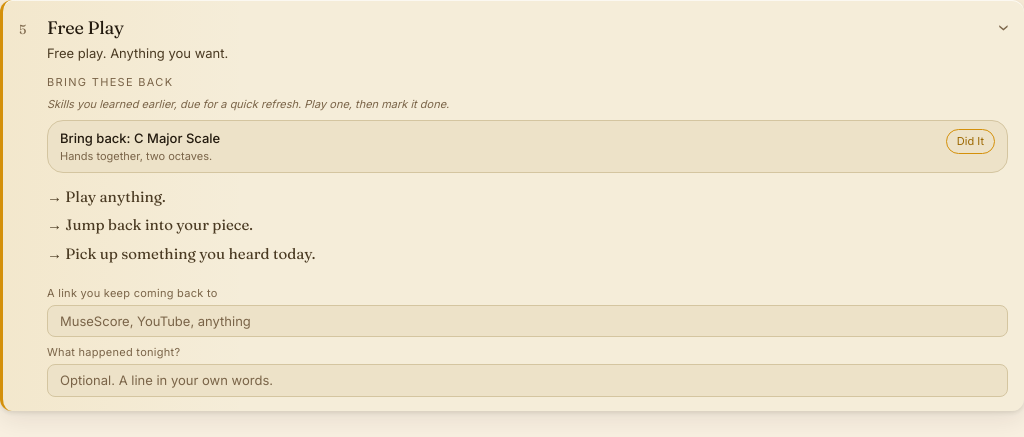
Test: FreeSlot — R7 spaced-retrieval review prompts › removes the card once marked done
The image size is (1024, 437).
Click the button with test id "free-review-done-n1": (970, 141) top-left (946, 129), bottom-right (995, 154)
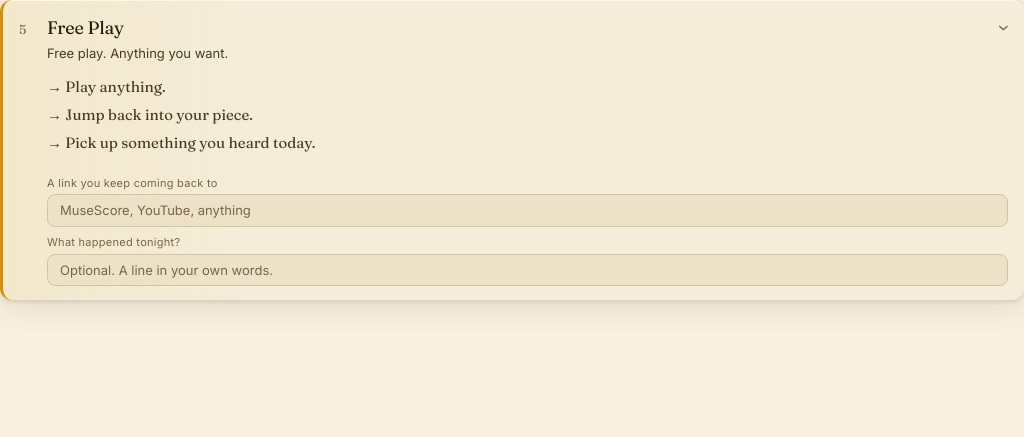
Expected: the list item with test id "free-review-n1" is gone
